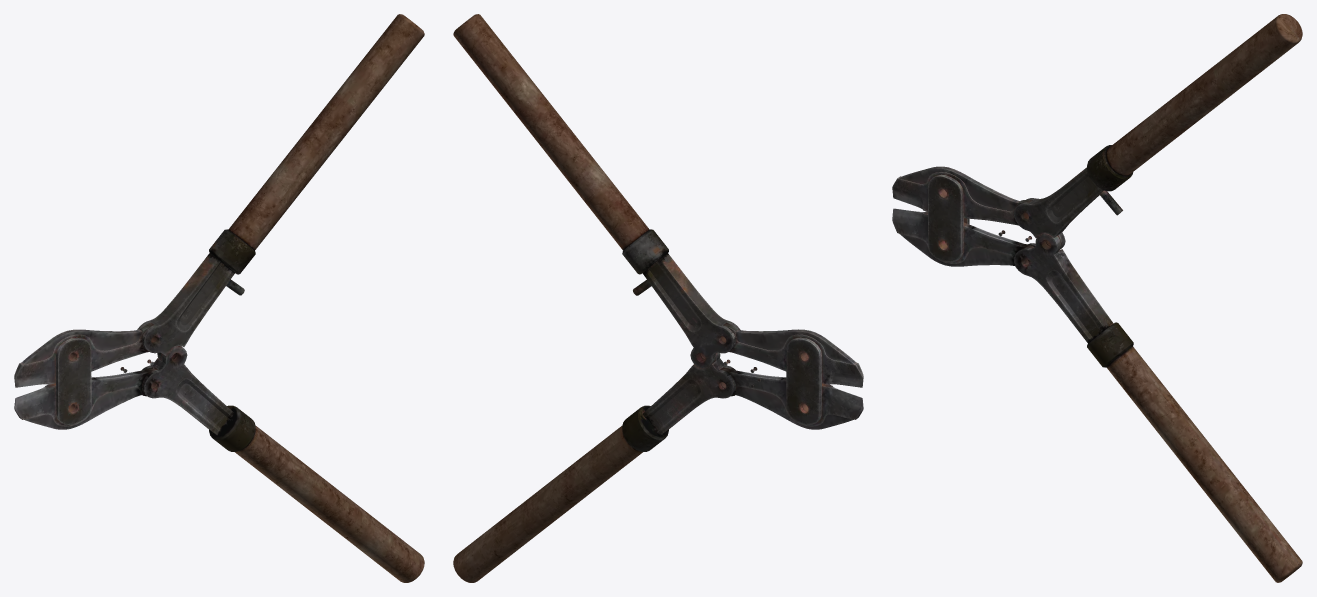
Rendered from s_cizalla.glb.
3 renders of one model, left to right at view 1: azimuth 30°, elevation 25°; view 2: azimuth 150°, elevation 25°; view 3: azimuth 330°, elevation 25°, orthographic.
Visible parts, largest first — view 1: Object_20; view 2: Object_20; view 3: Object_20.
Boxes of the visible parts, box(x1,y1,x2,y2) form: Object_20: box(14, 14, 424, 582); Object_20: box(453, 14, 863, 582); Object_20: box(892, 14, 1302, 582).
Size of the model in its own units: 0.4517 by 0.6 by 0.0382.
Materials: 1 (1 with a texture image).
